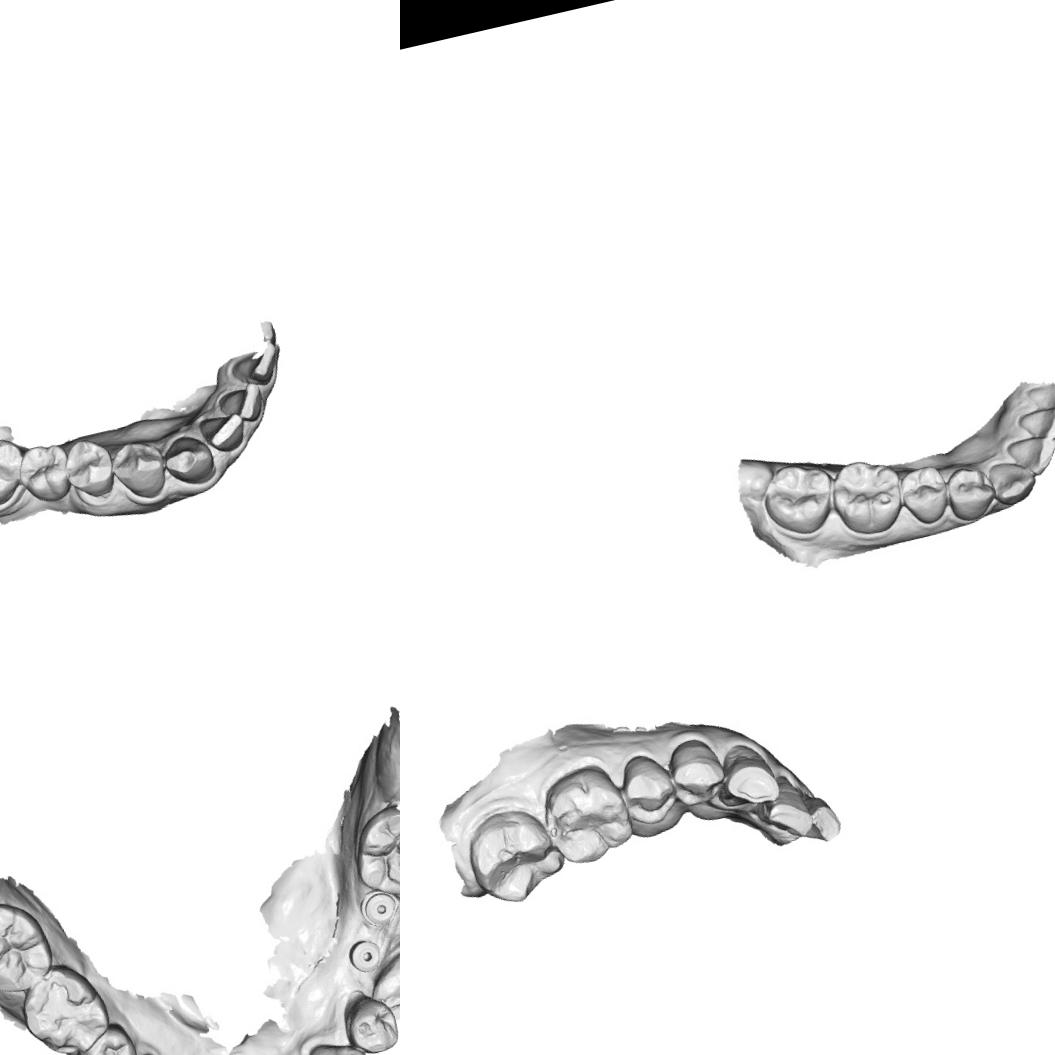canine: (711, 742, 782, 814), (156, 428, 221, 491), (984, 455, 1040, 509), (307, 1034, 374, 1055)
implant: (355, 883, 400, 932), (344, 932, 387, 976)
incisor: (758, 784, 817, 844), (224, 338, 288, 391), (1002, 431, 1055, 483), (196, 408, 250, 458), (214, 380, 268, 430), (802, 792, 848, 846), (1014, 402, 1055, 448), (1022, 376, 1055, 418)
molar: (456, 798, 570, 913), (534, 754, 640, 870), (11, 955, 116, 1055), (823, 450, 912, 542), (755, 454, 843, 544), (0, 892, 59, 1003), (343, 795, 400, 903), (0, 421, 35, 516)
premolar: (106, 433, 176, 511), (616, 748, 682, 830), (664, 734, 728, 813), (13, 437, 78, 510), (57, 433, 120, 506), (940, 459, 1002, 526), (896, 462, 956, 530), (341, 989, 400, 1055), (72, 1022, 139, 1055)
